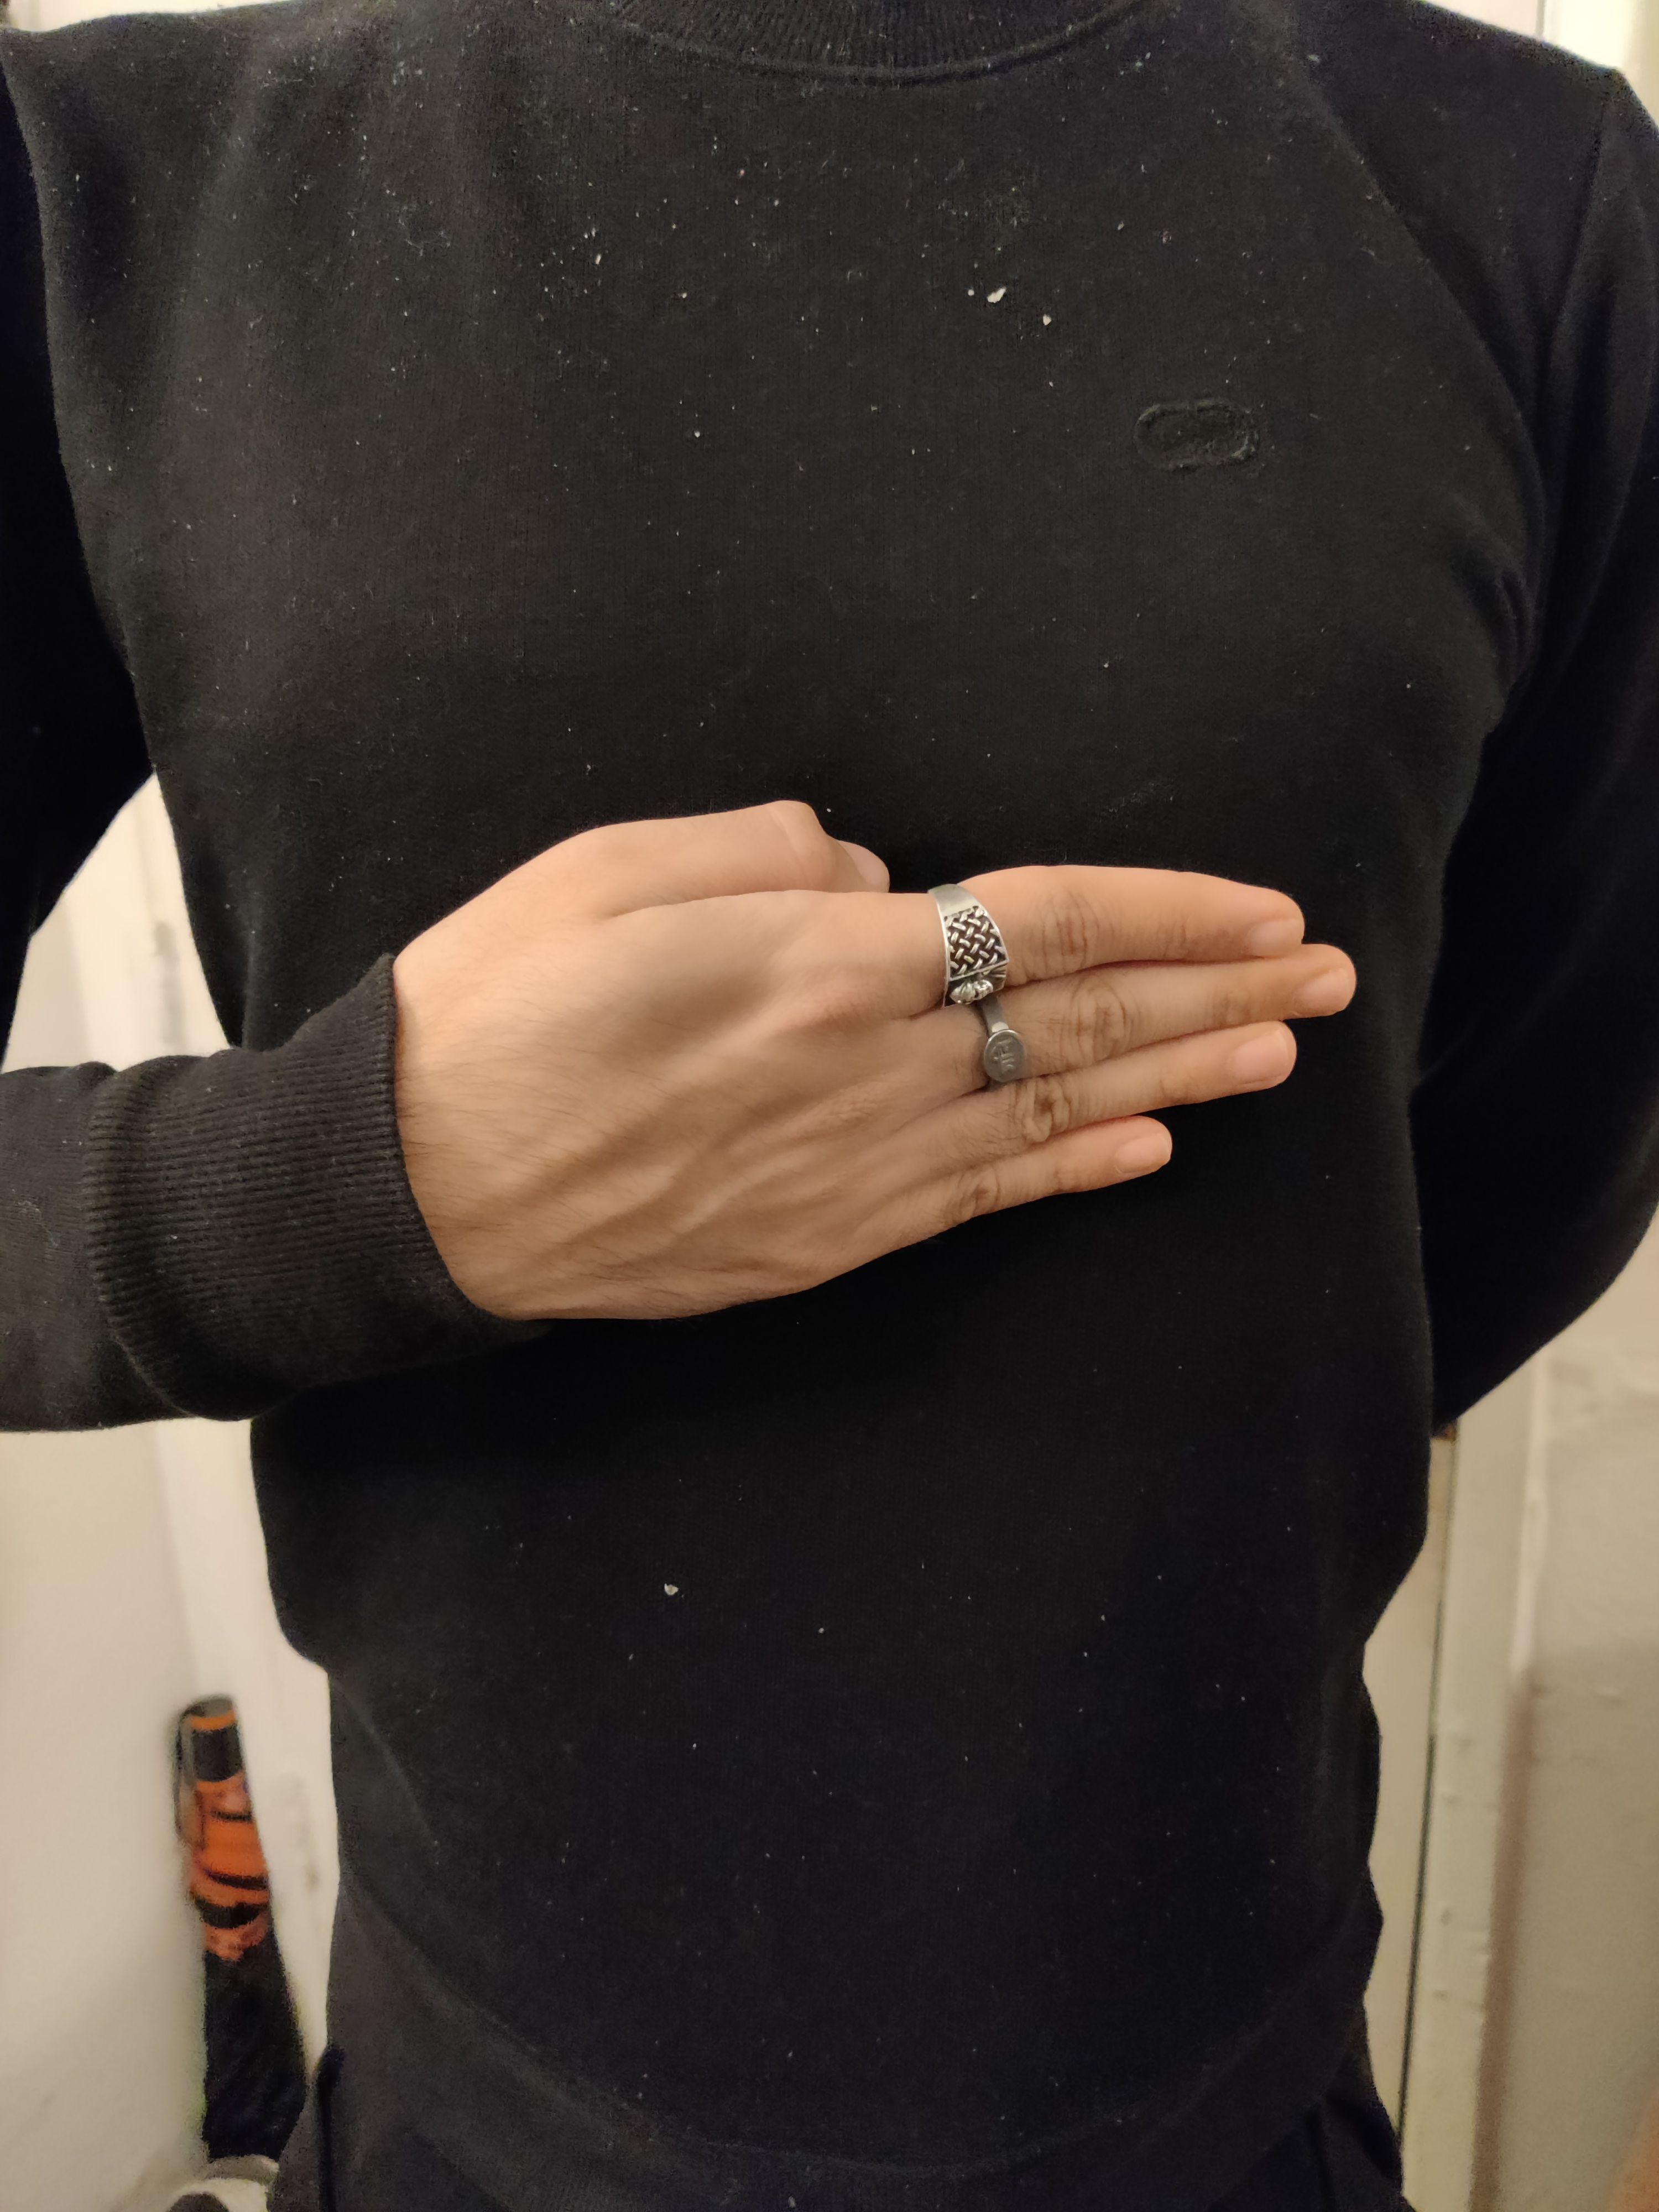left: (9, 479, 1539, 1639)
